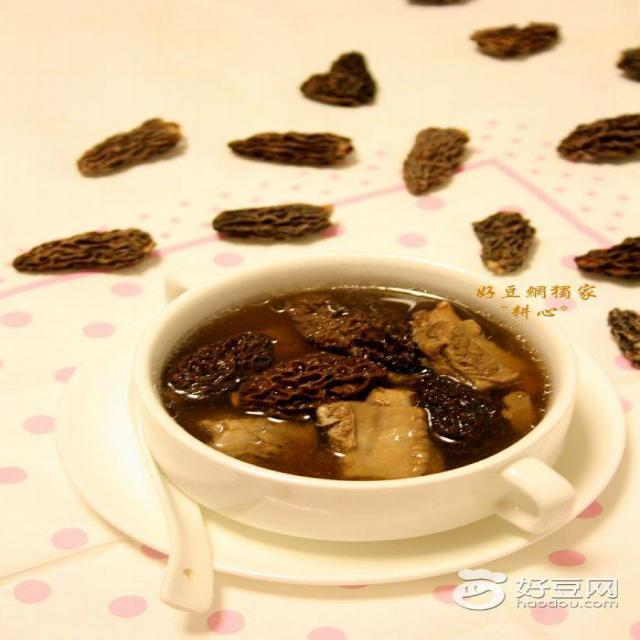Morchella esculenta: (169, 282, 546, 482), (11, 221, 157, 279), (72, 114, 186, 177), (230, 125, 352, 173), (205, 197, 334, 241), (296, 52, 378, 111), (399, 126, 468, 196), (470, 208, 535, 276), (469, 18, 561, 61)
